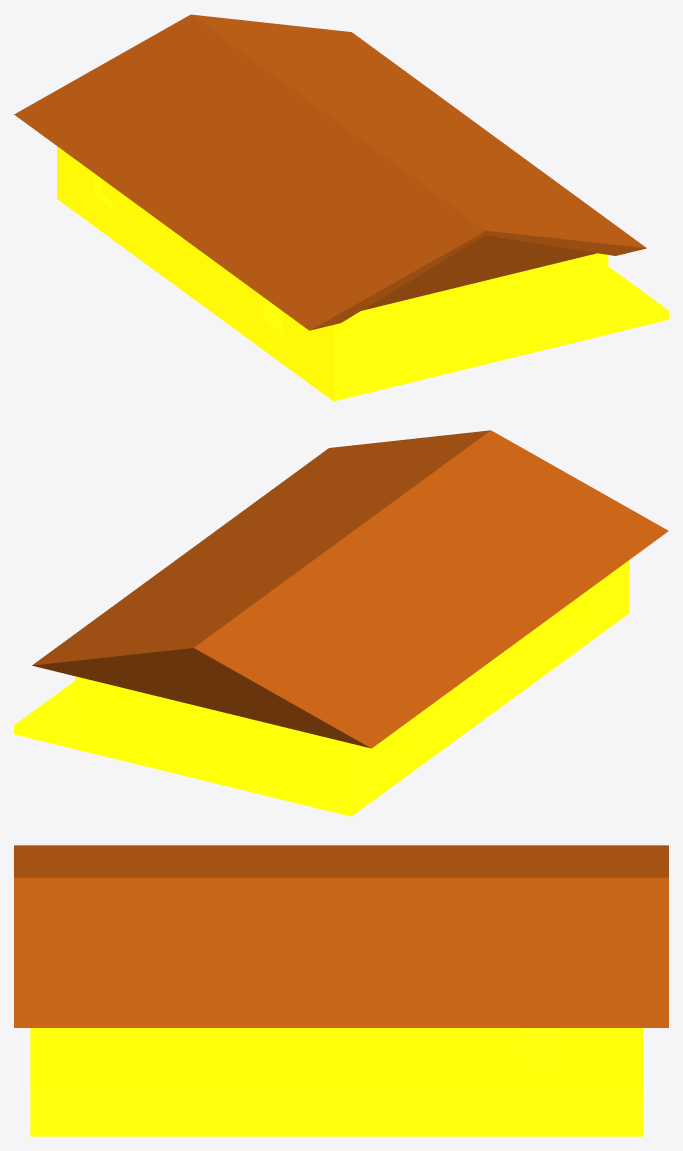
Rendered from cabine.fbx.
3 views of the same model, one above another, from view 1: azimuth 30°, elevation 25°; view 2: azimuth 150°, elevation 25°; view 3: azimuth 270°, elevation 25° (orthographic). The views are drawn at different scales.
Visible parts, largest first — view 1: House; view 2: House; view 3: House, Door.
Part boxes in pixels (x1=…): House: x1=14, y1=14, x2=668, y2=401; House: x1=14, y1=430, x2=668, y2=816; House: x1=14, y1=845, x2=668, y2=1136; Door: x1=324, y1=1028, x2=384, y2=1093.
Bounding box in the file's own units: 13.89 × 9.96 × 3.65.
